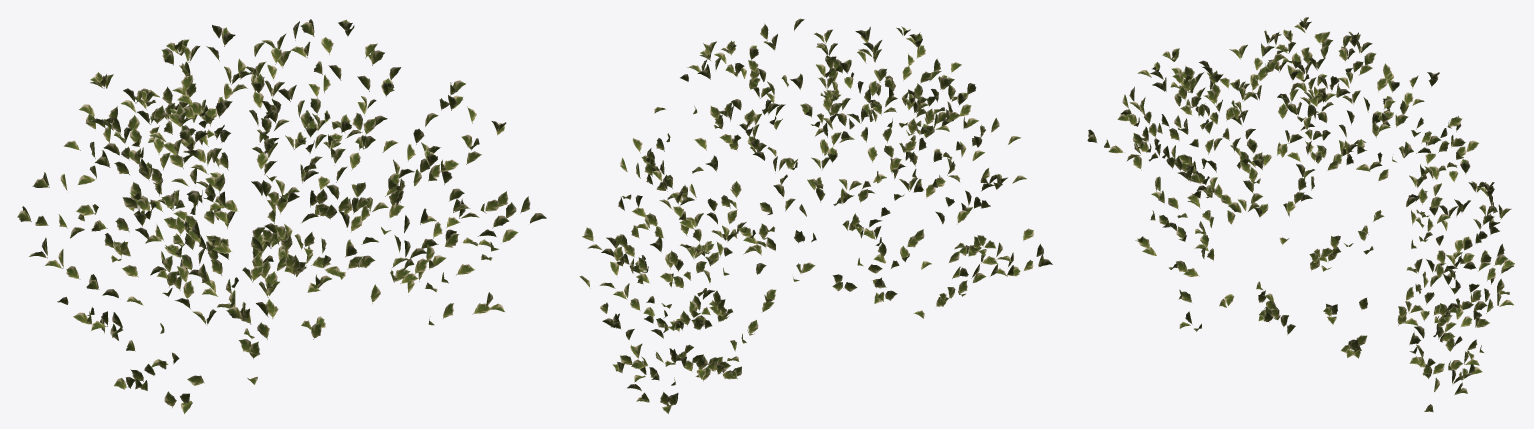
The model's file is MESH_LS10_A_Euonymus_LOD1.fbx.
3 views of the same model, side by side, from view 1: azimuth 30°, elevation 25°; view 2: azimuth 150°, elevation 25°; view 3: azimuth 270°, elevation 25° (orthographic). The views are drawn at different scales.
Visible parts, largest first — view 1: MI_LOD1_001; view 2: MI_LOD1_001; view 3: MI_LOD1_001.
Boxes of the visible parts, bbox=[...] form: MI_LOD1_001: bbox=[17, 19, 546, 413]; MI_LOD1_001: bbox=[579, 18, 1052, 413]; MI_LOD1_001: bbox=[1087, 17, 1514, 412].
Size of what is drawn, in the model's own units: 222 by 170 by 212.
